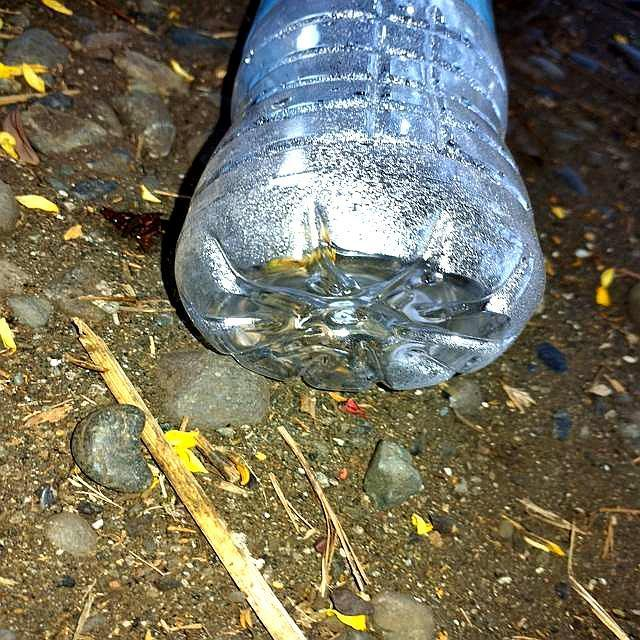Non-biodegradable: (169, 1, 549, 396)
